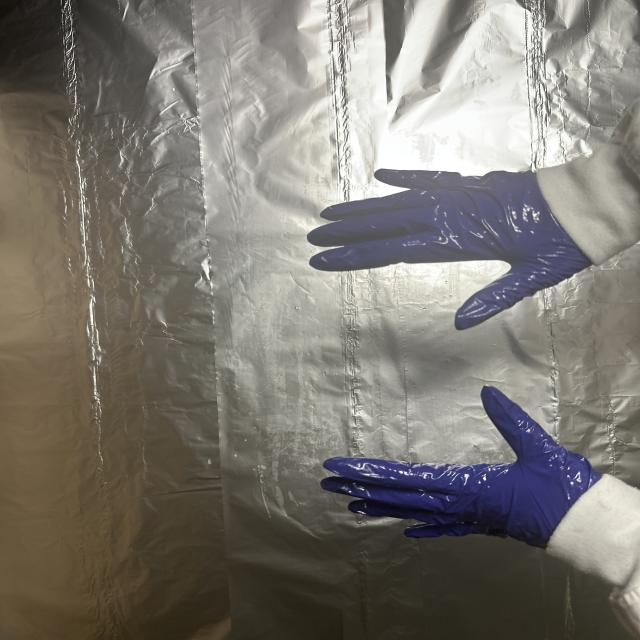gloves_contaminated: (322, 386, 604, 548), (308, 172, 590, 330)
